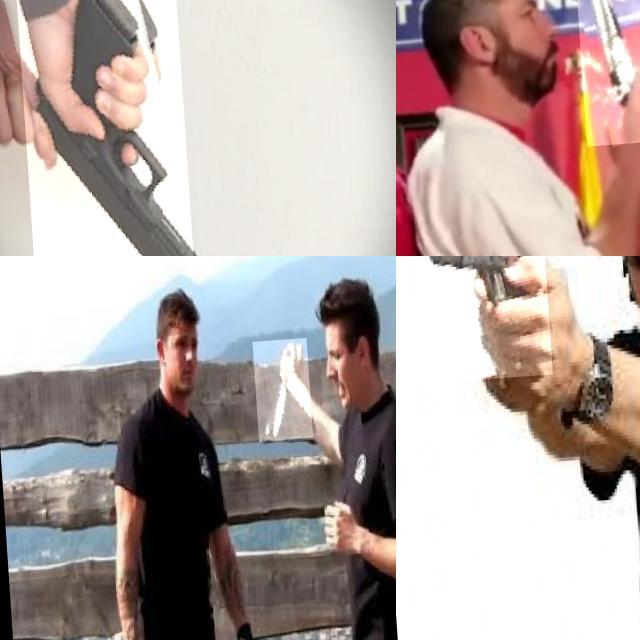-: (250, 344, 310, 446), (396, 88, 431, 249)
gun-knife-thesis - v11 Yolov5 augmented: (13, 0, 191, 256), (409, 256, 548, 384), (573, 0, 640, 153)
